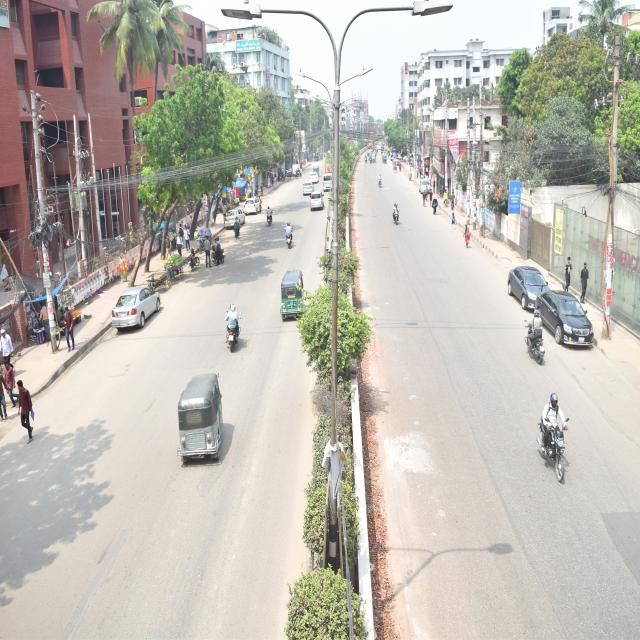car: (535, 286, 597, 351), (109, 282, 164, 332), (503, 262, 555, 308), (224, 208, 248, 233), (242, 194, 264, 216), (308, 191, 327, 216), (300, 180, 314, 199), (418, 180, 433, 195)
microbus: (321, 171, 335, 193)
motorbike: (534, 409, 568, 486), (524, 317, 548, 370), (226, 305, 243, 353), (209, 246, 229, 267), (280, 220, 294, 247), (391, 204, 401, 227), (265, 204, 273, 226)
